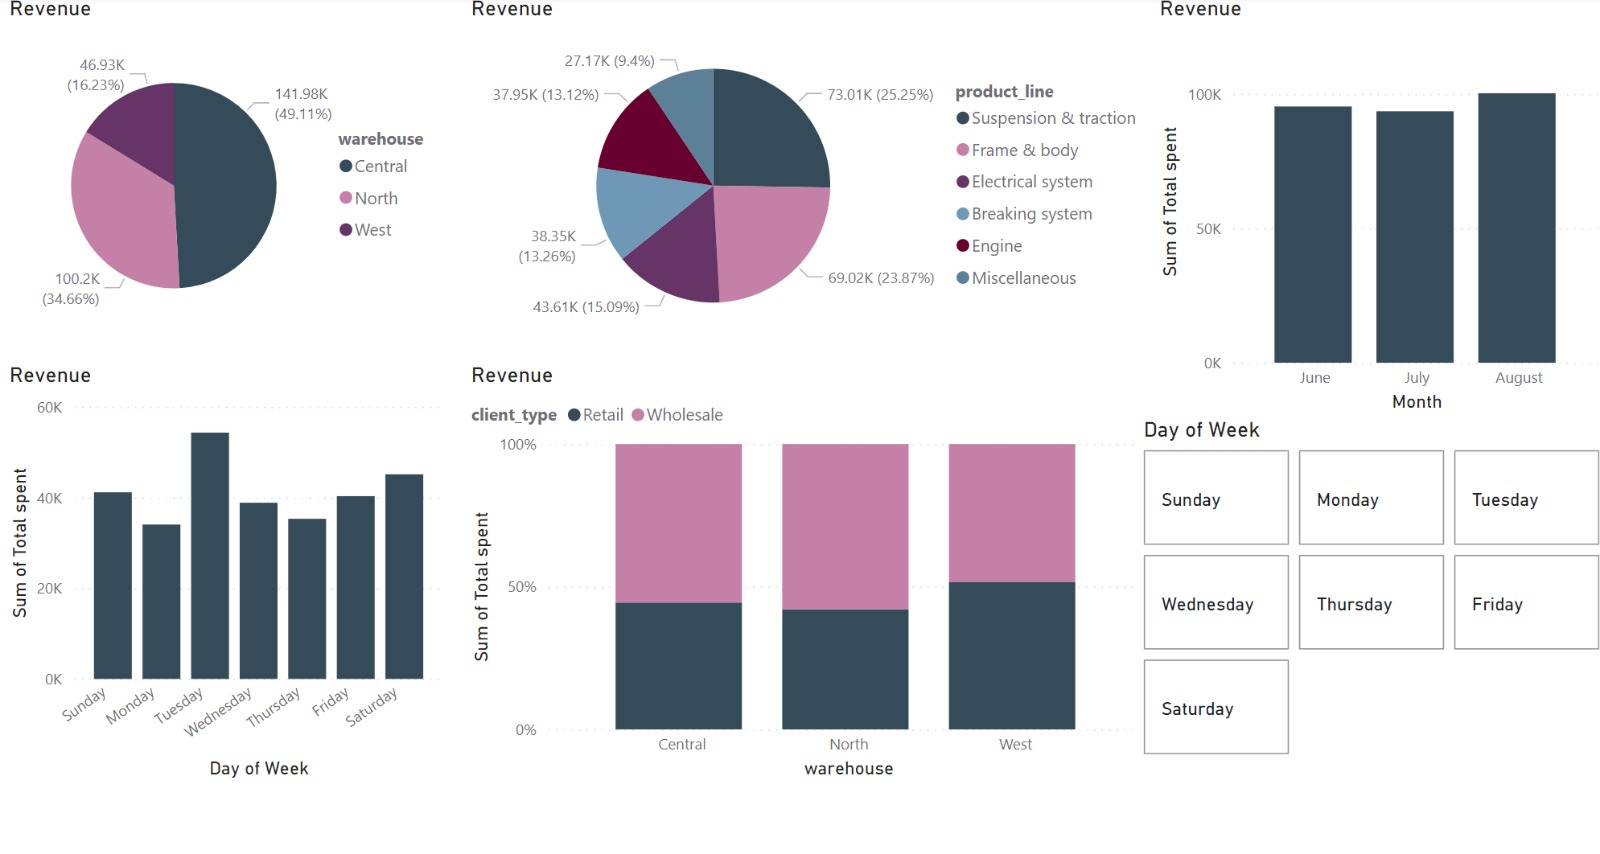

Layout of this report page (visuals, bound fields, positions):
{"tool":"powerbi","page":{"name":"Page 1","canvas":[1280,720],"ordinal":0},"visuals":[{"type":"pieChart","title":"Revenue","fields":{"Y":["Sum(sales$.Total spent)"],"Category":["sales$.warehouse"]},"box":[9.6,0,356.4,279.7],"z":0},{"type":"lineClusteredColumnComboChart","title":"Revenue","fields":{"Category":["sales$.Day of Week"],"Y":["Sum(sales$.Total spent)"]},"box":[10.6,290.6,354,334.2],"z":1000},{"type":"pieChart","title":"Revenue","fields":{"Category":["sales$.product_line"],"Y":["Sum(sales$.Total spent)"]},"box":[375.5,0,546.5,279.7],"z":2000},{"type":"hundredPercentStackedColumnChart","title":"Revenue","fields":{"Category":["sales$.warehouse"],"Y":["Sum(sales$.Total spent)"],"Series":["sales$.client_type"]},"box":[376,291,547,334],"z":3000},{"type":"clusteredColumnChart","title":"Revenue","fields":{"Category":["sales$.Month"],"Y":["Sum(sales$.Total spent)"]},"box":[922,0,359.3,334.2],"z":4000},{"type":"advancedSlicerVisual","fields":{"Values":["sales$.Day of Week"]},"box":[908.8,334.2,371.2,273.4],"z":5000}]}

Visuals, with their boxes on the page's 1280x720 design canvas (x1, y1, x2, y2). These are canvas units, not pixel positions in the 1600x854 screenshot, which may show the page scaled, cropped or inside an application window:
"Revenue" pieChart: bbox(10, 0, 366, 280)
"Revenue" lineClusteredColumnComboChart: bbox(11, 291, 365, 625)
"Revenue" pieChart: bbox(376, 0, 922, 280)
"Revenue" hundredPercentStackedColumnChart: bbox(376, 291, 923, 625)
"Revenue" clusteredColumnChart: bbox(922, 0, 1281, 334)
advancedSlicerVisual - sales$.Day of Week: bbox(909, 334, 1280, 608)
